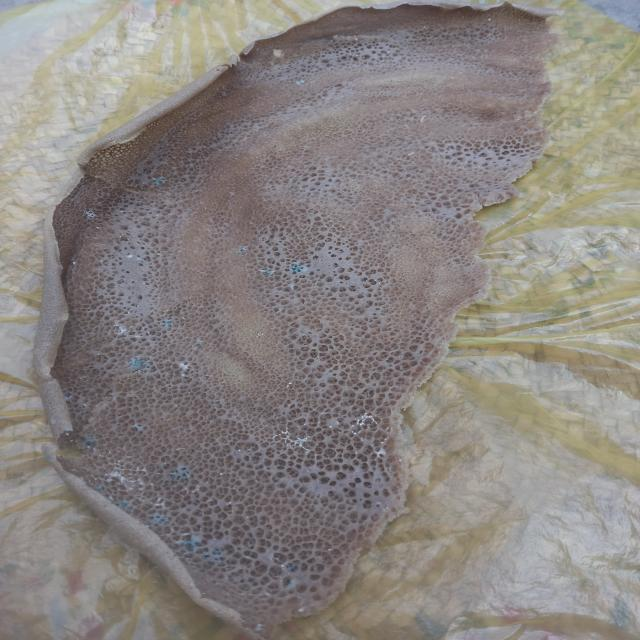injera_mold: (101, 458, 156, 487), (271, 427, 314, 452), (346, 413, 386, 434), (108, 318, 142, 339), (125, 354, 154, 372), (169, 465, 192, 482), (203, 548, 224, 564), (176, 537, 200, 550), (149, 512, 167, 526), (81, 208, 99, 220), (289, 262, 308, 273), (80, 434, 96, 446), (255, 267, 276, 275), (152, 498, 170, 507), (372, 448, 387, 458), (284, 564, 299, 573), (130, 421, 143, 431), (234, 246, 248, 254), (254, 622, 264, 632), (178, 362, 190, 370), (120, 501, 130, 510), (287, 580, 297, 589), (294, 79, 306, 86), (296, 606, 306, 614), (162, 319, 172, 326), (194, 338, 203, 344), (65, 396, 71, 402), (97, 486, 104, 491), (290, 285, 296, 290), (127, 254, 134, 258), (136, 257, 140, 261), (119, 210, 124, 213), (99, 260, 104, 262), (181, 374, 186, 376)
